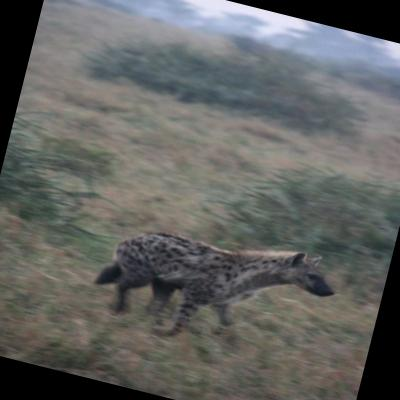hyenas: (94, 196, 352, 377)
